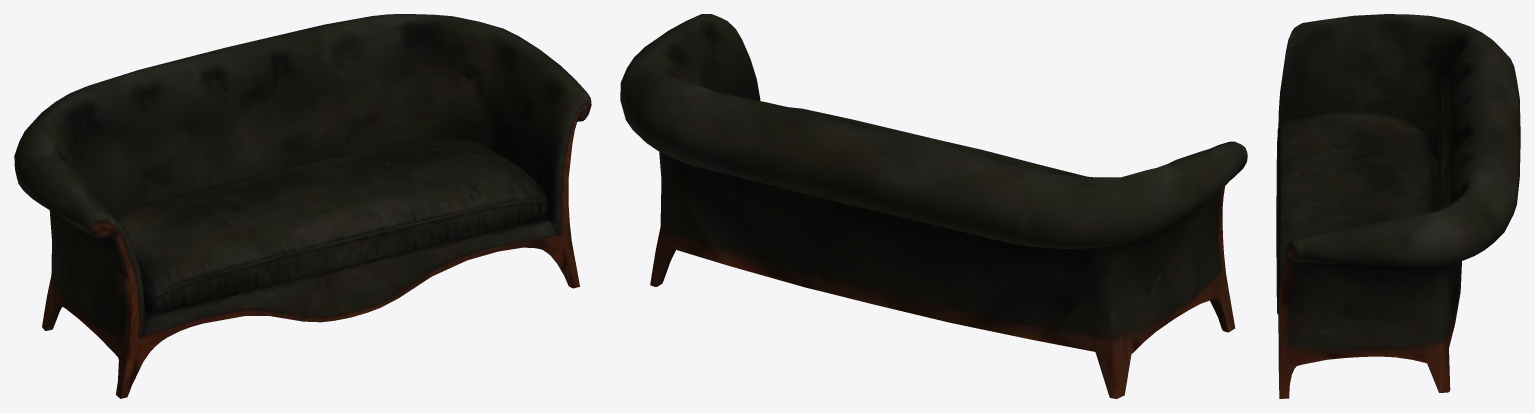
The model's file is sofa_02.glb.
3 views of the same model, side by side, from view 1: azimuth 30°, elevation 25°; view 2: azimuth 150°, elevation 25°; view 3: azimuth 270°, elevation 25° (orthographic). The views are drawn at different scales.
Parts seen in each view (by area): view 1: sofa_02_Base; view 2: sofa_02_Base; view 3: sofa_02_Base.
Part boxes in pixels (box(x1,y1,x2,y2)): sofa_02_Base: box(14, 14, 591, 398); sofa_02_Base: box(620, 14, 1247, 398); sofa_02_Base: box(1276, 14, 1520, 398).
Bounding box in the file's own units: 1.81 × 0.7095 × 0.8178.
Materials: 1 (1 with a texture image).
